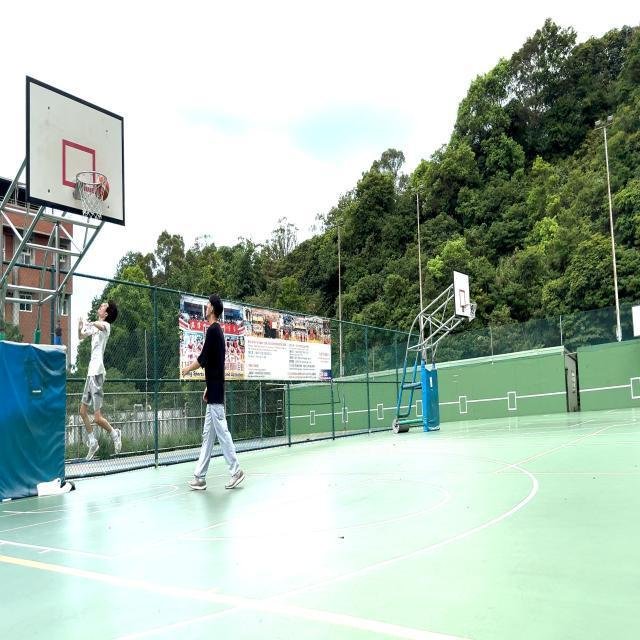ball: (98, 174, 110, 204)
hoop: (74, 169, 108, 188), (461, 300, 477, 309)
